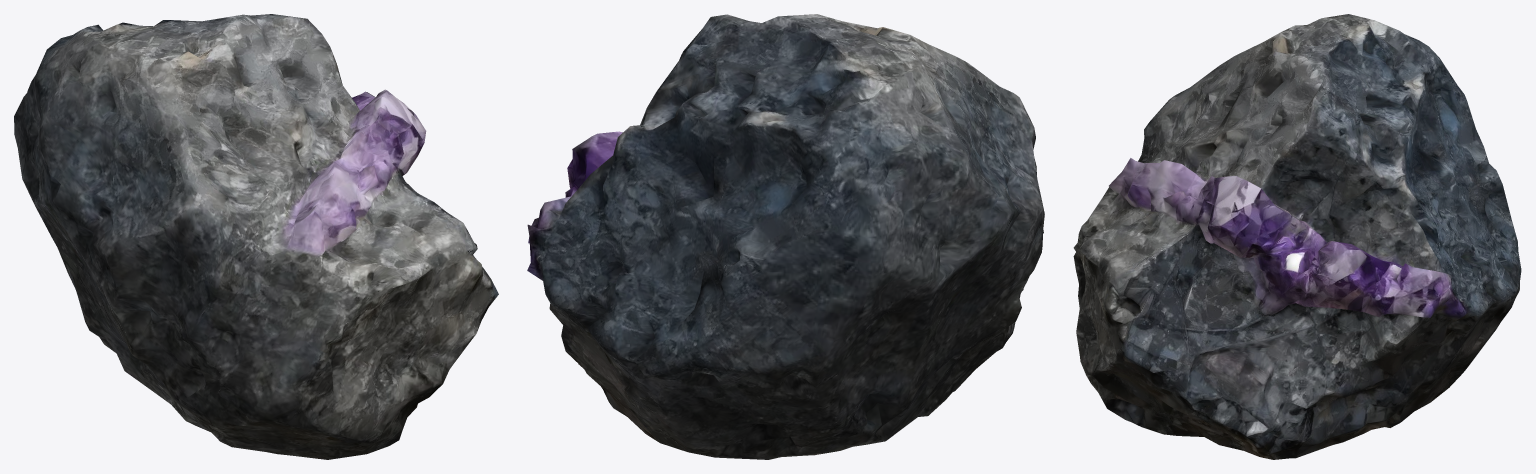
Rendered from qr_vein2.glb.
The picture shows the model from 3 angles, left to right: view 1: azimuth 30°, elevation 25°; view 2: azimuth 150°, elevation 25°; view 3: azimuth 270°, elevation 25°; orthographic projection. The views are drawn at different scales.
Parts seen in each view (by area): view 1: tripo_node_76db8588-eac1-4e64-9e6d-649f3d937398; view 2: tripo_node_76db8588-eac1-4e64-9e6d-649f3d937398; view 3: tripo_node_76db8588-eac1-4e64-9e6d-649f3d937398.
Part boxes in pixels (x1,y1,x2,y2): tripo_node_76db8588-eac1-4e64-9e6d-649f3d937398: (14, 14, 498, 459); tripo_node_76db8588-eac1-4e64-9e6d-649f3d937398: (527, 14, 1044, 459); tripo_node_76db8588-eac1-4e64-9e6d-649f3d937398: (1073, 14, 1521, 459).
Bounding box in the file's own units: 0.9193 × 0.8388 × 1.
Materials: 1 (1 with a texture image).
